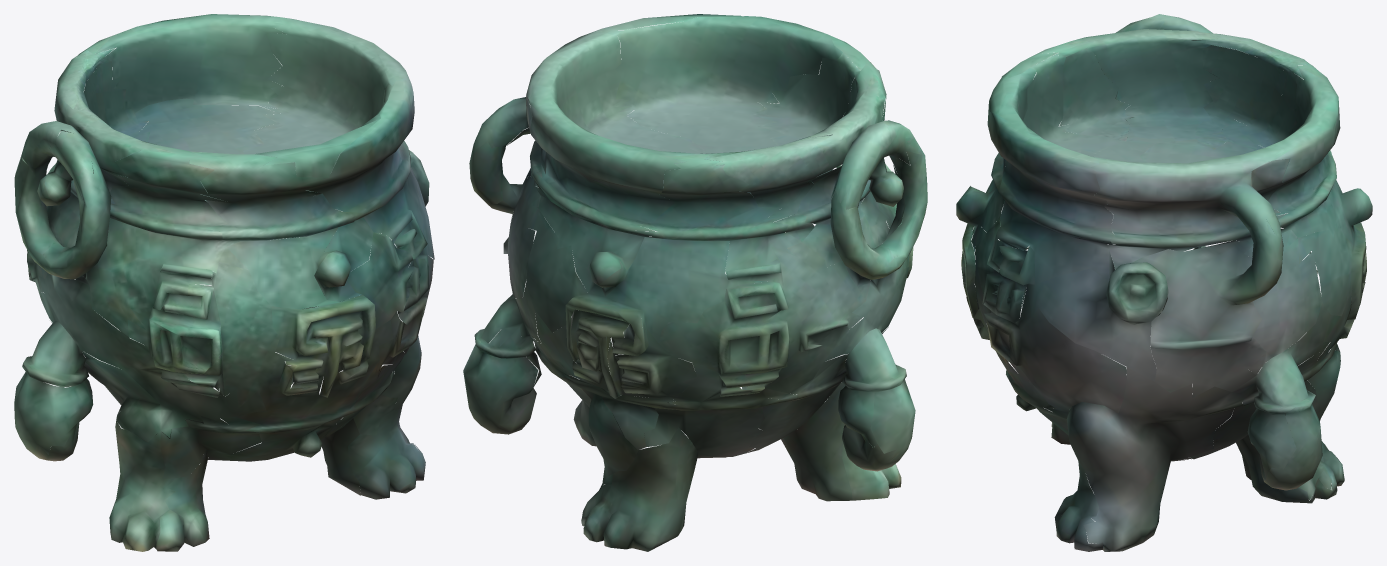
Rendered from mob_relic.glb.
3 renders of one model, left to right at view 1: azimuth 30°, elevation 25°; view 2: azimuth 150°, elevation 25°; view 3: azimuth 270°, elevation 25°, orthographic. The views are drawn at different scales.
Parts seen in each view (by area): view 1: tripo_node_15fcf026-b788-4850-b8aa-bf00ac64c46c; view 2: tripo_node_15fcf026-b788-4850-b8aa-bf00ac64c46c; view 3: tripo_node_15fcf026-b788-4850-b8aa-bf00ac64c46c.
Boxes of the visible parts, x1,y1,x2,y2 form: tripo_node_15fcf026-b788-4850-b8aa-bf00ac64c46c: [14, 14, 434, 551]; tripo_node_15fcf026-b788-4850-b8aa-bf00ac64c46c: [463, 14, 927, 551]; tripo_node_15fcf026-b788-4850-b8aa-bf00ac64c46c: [956, 14, 1372, 551].
Size of the model in its own units: 1 by 0.9688 by 0.9508.
Materials: 1 (1 with a texture image).
